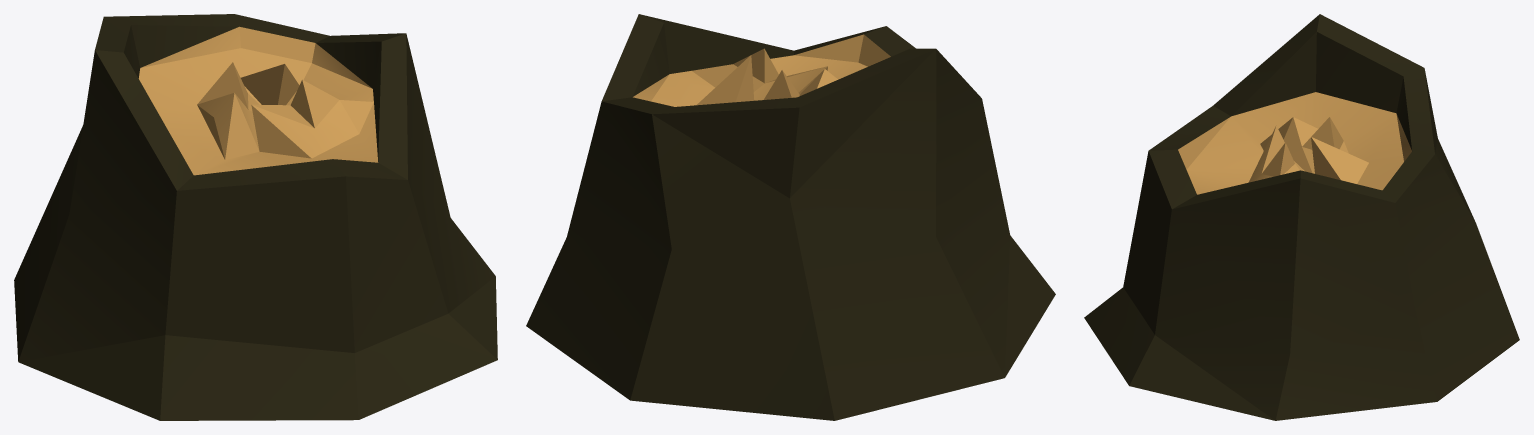
Rendered from OakStumpA.fbx.
The picture shows the model from 3 angles, left to right: view 1: azimuth 30°, elevation 25°; view 2: azimuth 150°, elevation 25°; view 3: azimuth 270°, elevation 25°; orthographic projection. The views are drawn at different scales.
Parts seen in each view (by area): view 1: OakBrokenA; view 2: OakBrokenA; view 3: OakBrokenA.
Part boxes in pixels (x1=…): OakBrokenA: x1=14, y1=14, x2=497, y2=420; OakBrokenA: x1=526, y1=14, x2=1055, y2=420; OakBrokenA: x1=1084, y1=14, x2=1519, y2=420.
Size of the model in its own units: 358 by 229 by 358.
